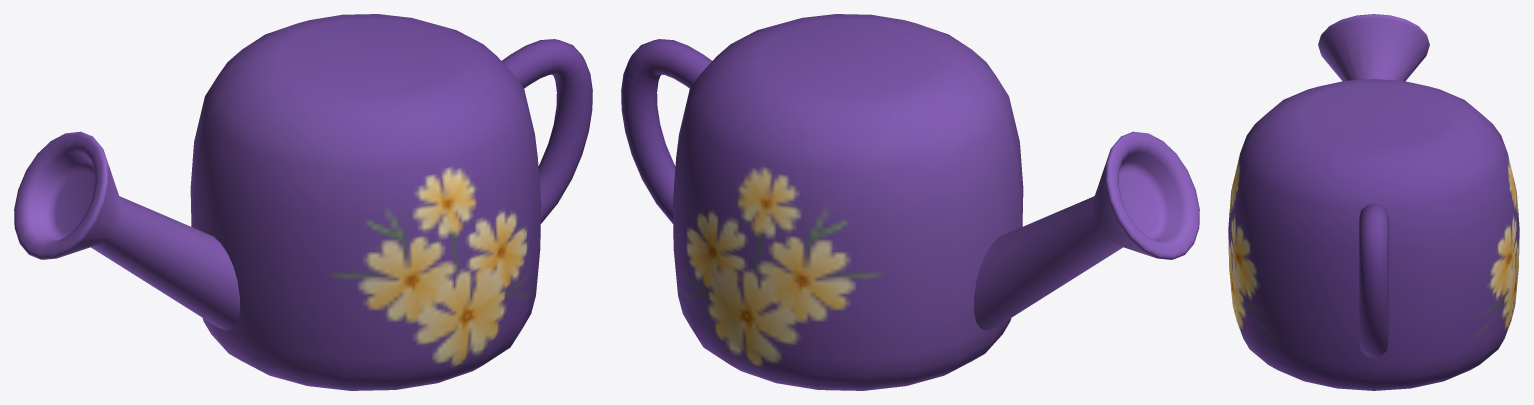
The model's file is Watering can.fbx.
The picture shows the model from 3 angles, left to right: view 1: azimuth 30°, elevation 25°; view 2: azimuth 150°, elevation 25°; view 3: azimuth 270°, elevation 25°; orthographic projection. The views are drawn at different scales.
Visible parts, largest first — view 1: Cylinder.016; view 2: Cylinder.016; view 3: Cylinder.016.
Part boxes in pixels (<box>): Cylinder.016: <box>14,14,592,390</box>; Cylinder.016: <box>621,14,1199,390</box>; Cylinder.016: <box>1228,14,1519,390</box>.
Bounding box in the file's own units: 21.05 × 9.91 × 11.43.
